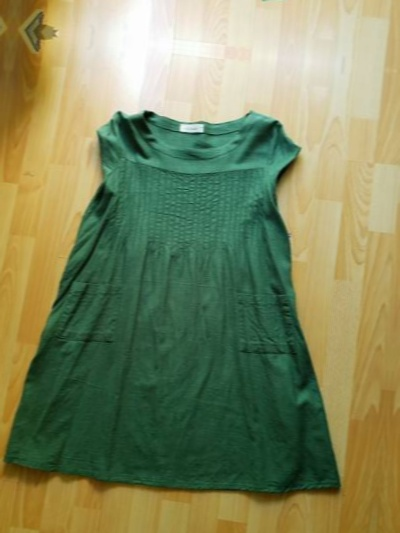Dress: (0, 59, 391, 513), (46, 0, 400, 43)
